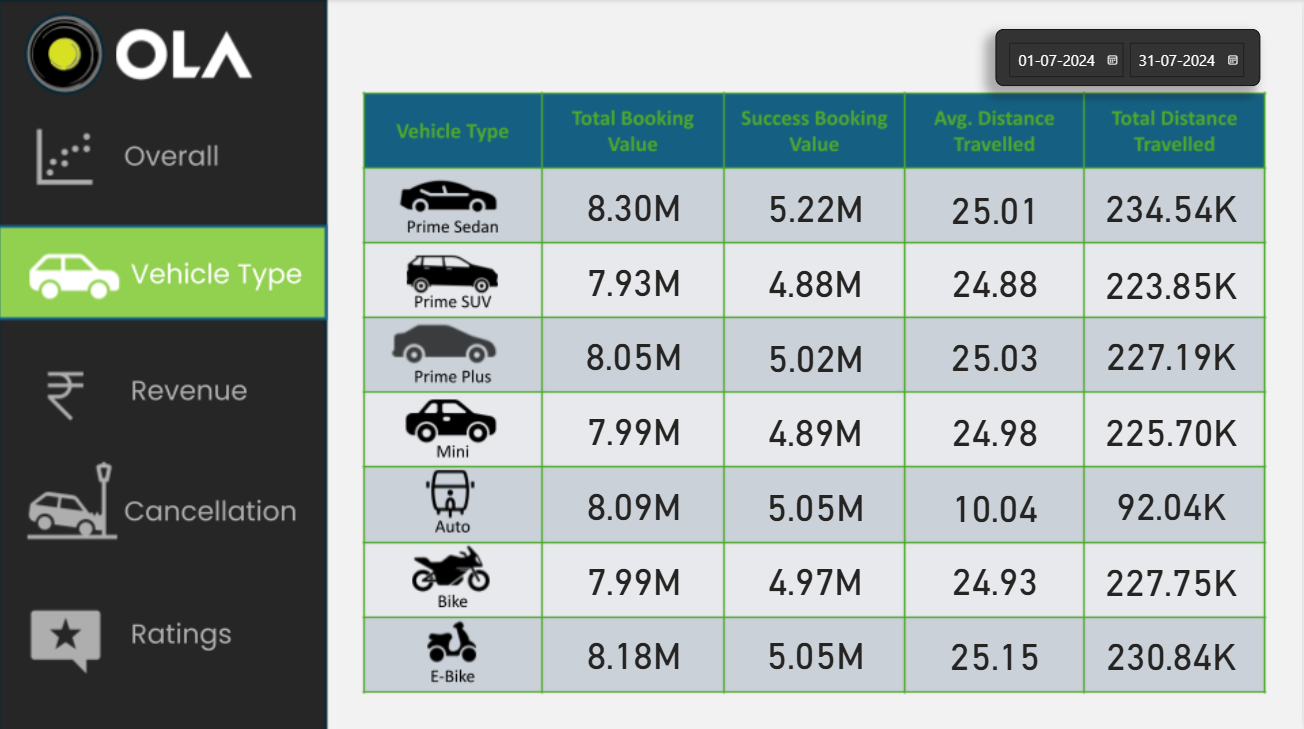

This screenshot's page, from the dashboard's own definition file:
{"tool":"powerbi","page":{"name":"vehical type","canvas":[1280,720],"ordinal":1},"visuals":[{"type":"actionButton","box":[0,223.3,319,92],"z":0},{"type":"actionButton","box":[0,344.8,319,88.3],"z":1000},{"type":"actionButton","box":[0,455.2,319,95.7],"z":2000},{"type":"actionButton","box":[0,579.1,319,90.8],"z":3000},{"type":"actionButton","box":[0,110.4,319,92],"z":4000},{"type":"card","fields":{"Values":["Sum(July (2).Booking_Value)"]},"box":[534.7,165.3,178.7,73.3],"z":5000},{"type":"card","fields":{"Values":["Sum(July (2).Booking_Value)"]},"box":[534.7,238.7,178.7,73.3],"z":6000},{"type":"card","fields":{"Values":["Sum(July (2).Booking_Value)"]},"box":[534.7,312,178.7,73.3],"z":7000},{"type":"card","fields":{"Values":["Sum(July (2).Booking_Value)"]},"box":[534.7,385.3,178.7,73.3],"z":8000},{"type":"card","fields":{"Values":["Sum(July (2).Booking_Value)"]},"box":[534.7,458.7,178.7,73.3],"z":9000},{"type":"card","fields":{"Values":["Sum(July (2).Booking_Value)"]},"box":[534.7,532,178.7,73.3],"z":10000},{"type":"card","fields":{"Values":["Sum(July (2).Booking_Value)"]},"box":[534.7,605.3,178.7,73.3],"z":11000},{"type":"card","fields":{"Values":["Sum(July (2).Booking_Value)"]},"box":[713.3,166.7,178.7,73.3],"z":12000},{"type":"card","fields":{"Values":["Sum(July (2).Booking_Value)"]},"box":[713.3,240,178.7,73.3],"z":13000},{"type":"card","fields":{"Values":["Sum(July (2).Booking_Value)"]},"box":[713.3,314.7,178.7,73.3],"z":14000},{"type":"card","fields":{"Values":["Sum(July (2).Booking_Value)"]},"box":[713.3,386.7,178.7,73.3],"z":15000},{"type":"card","fields":{"Values":["Sum(July (2).Booking_Value)"]},"box":[713.3,460,178.7,73.3],"z":16000},{"type":"card","fields":{"Values":["Sum(July (2).Booking_Value)"]},"box":[713.3,532,178.7,73.3],"z":17000},{"type":"card","fields":{"Values":["Sum(July (2).Booking_Value)"]},"box":[713.3,605.3,178.7,73.3],"z":18000},{"type":"card","fields":{"Values":["Avg(July (2).Ride_Distance)"]},"box":[892,168,173.3,73.3],"z":19000},{"type":"card","fields":{"Values":["Avg(July (2).Ride_Distance)"]},"box":[892,240,173.3,73.3],"z":20000},{"type":"card","fields":{"Values":["Avg(July (2).Ride_Distance)"]},"box":[892,313.3,173.3,73.3],"z":21000},{"type":"card","fields":{"Values":["Avg(July (2).Ride_Distance)"]},"box":[892,386.7,173.3,73.3],"z":22000},{"type":"card","fields":{"Values":["Avg(July (2).Ride_Distance)"]},"box":[892,461.3,173.3,73.3],"z":23000},{"type":"card","fields":{"Values":["Avg(July (2).Ride_Distance)"]},"box":[892,532,173.3,73.3],"z":24000},{"type":"card","fields":{"Values":["Avg(July (2).Ride_Distance)"]},"box":[892,606.7,173.3,73.3],"z":25000},{"type":"card","fields":{"Values":["Sum(July (2).Ride_Distance)"]},"box":[1065.3,166.7,173.3,73.3],"z":26000},{"type":"card","fields":{"Values":["Sum(July (2).Ride_Distance)"]},"box":[1065.3,241.3,173.3,73.3],"z":27000},{"type":"card","fields":{"Values":["Sum(July (2).Ride_Distance)"]},"box":[1065.3,312,173.3,73.3],"z":28000},{"type":"card","fields":{"Values":["Sum(July (2).Ride_Distance)"]},"box":[1065.3,386.7,173.3,73.3],"z":29000},{"type":"card","fields":{"Values":["Sum(July (2).Ride_Distance)"]},"box":[1065.3,458.7,173.3,73.3],"z":30000},{"type":"card","fields":{"Values":["Sum(July (2).Ride_Distance)"]},"box":[1065.3,533.3,173.3,73.3],"z":31000},{"type":"card","fields":{"Values":["Sum(July (2).Ride_Distance)"]},"box":[1065.3,606.7,173.3,73.3],"z":32000},{"type":"slicer","title":"Date","fields":{"Values":["July (2).Date"]},"box":[978.7,29.3,260,56],"z":33000}]}

Visuals, with their boxes on the page's 1280x720 design canvas (x1, y1, x2, y2). These are canvas units, not pixel positions in the 1304x729 screenshot, which may show the page scaled, cropped or inside an application window:
actionButton: 0:223:319:315
actionButton: 0:345:319:433
actionButton: 0:455:319:551
actionButton: 0:579:319:670
actionButton: 0:110:319:202
card - Sum(July (2).Booking_Value): 535:165:713:239
card - Sum(July (2).Booking_Value): 535:239:713:312
card - Sum(July (2).Booking_Value): 535:312:713:385
card - Sum(July (2).Booking_Value): 535:385:713:459
card - Sum(July (2).Booking_Value): 535:459:713:532
card - Sum(July (2).Booking_Value): 535:532:713:605
card - Sum(July (2).Booking_Value): 535:605:713:679
card - Sum(July (2).Booking_Value): 713:167:892:240
card - Sum(July (2).Booking_Value): 713:240:892:313
card - Sum(July (2).Booking_Value): 713:315:892:388
card - Sum(July (2).Booking_Value): 713:387:892:460
card - Sum(July (2).Booking_Value): 713:460:892:533
card - Sum(July (2).Booking_Value): 713:532:892:605
card - Sum(July (2).Booking_Value): 713:605:892:679
card - Avg(July (2).Ride_Distance): 892:168:1065:241
card - Avg(July (2).Ride_Distance): 892:240:1065:313
card - Avg(July (2).Ride_Distance): 892:313:1065:387
card - Avg(July (2).Ride_Distance): 892:387:1065:460
card - Avg(July (2).Ride_Distance): 892:461:1065:535
card - Avg(July (2).Ride_Distance): 892:532:1065:605
card - Avg(July (2).Ride_Distance): 892:607:1065:680
card - Sum(July (2).Ride_Distance): 1065:167:1239:240
card - Sum(July (2).Ride_Distance): 1065:241:1239:315
card - Sum(July (2).Ride_Distance): 1065:312:1239:385
card - Sum(July (2).Ride_Distance): 1065:387:1239:460
card - Sum(July (2).Ride_Distance): 1065:459:1239:532
card - Sum(July (2).Ride_Distance): 1065:533:1239:607
card - Sum(July (2).Ride_Distance): 1065:607:1239:680
"Date" slicer: 979:29:1239:85
